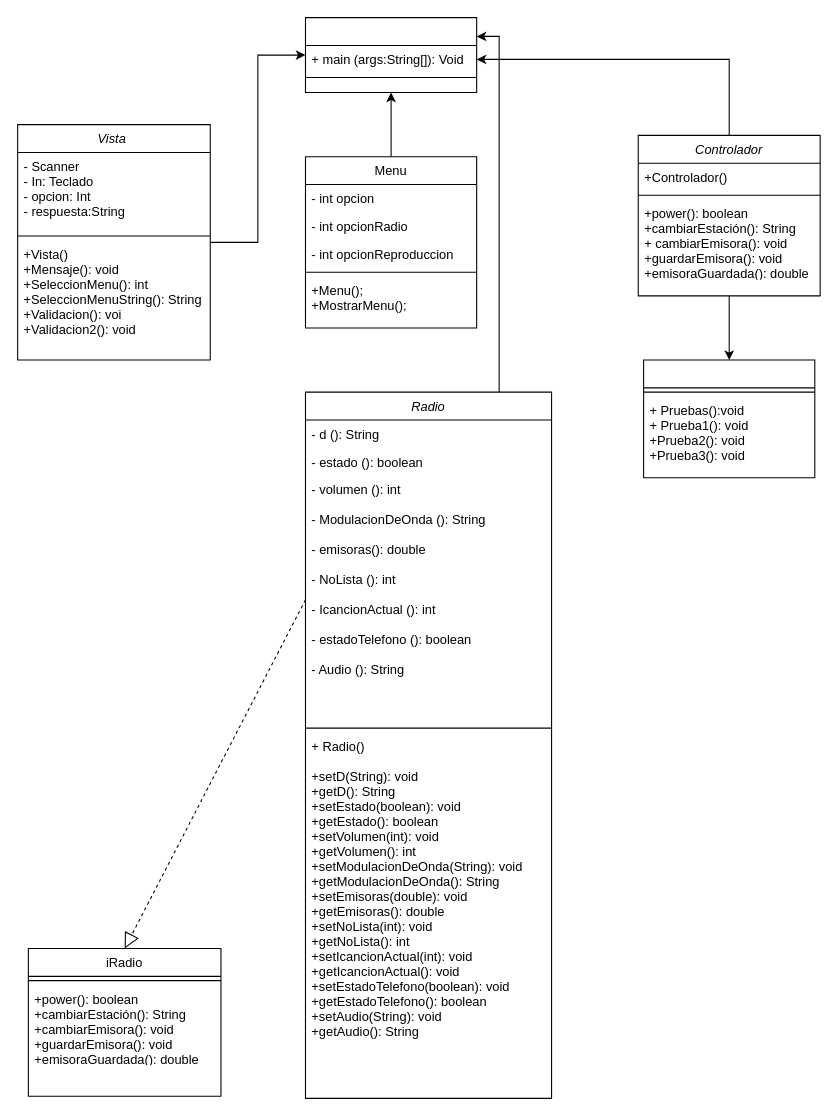
The diagram is 838 pixels wide and 1116 high, and some of its shapes have lost their labels. Each missing label, with the box of its shape:
Principal: (304, 17, 477, 93)
PruebasUnitarias: (643, 359, 815, 478)
